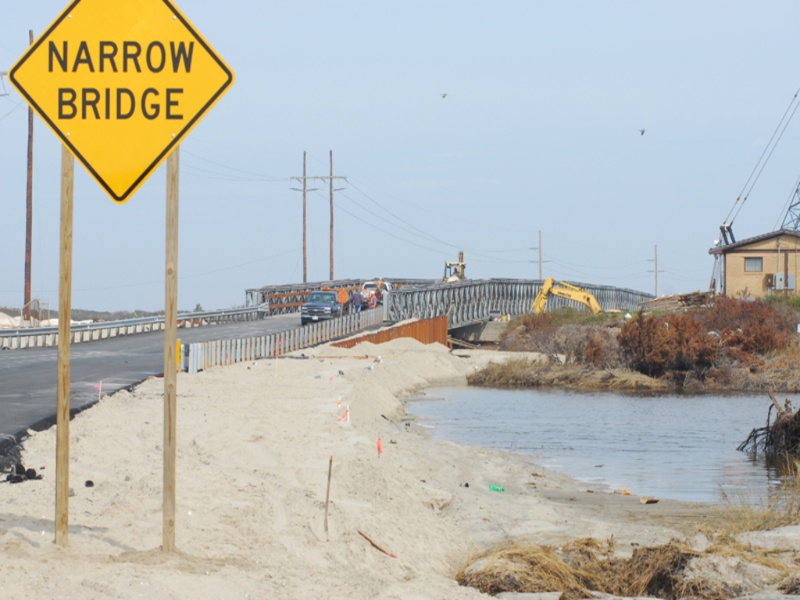narrow_road_ahead: (6, 4, 259, 198)
